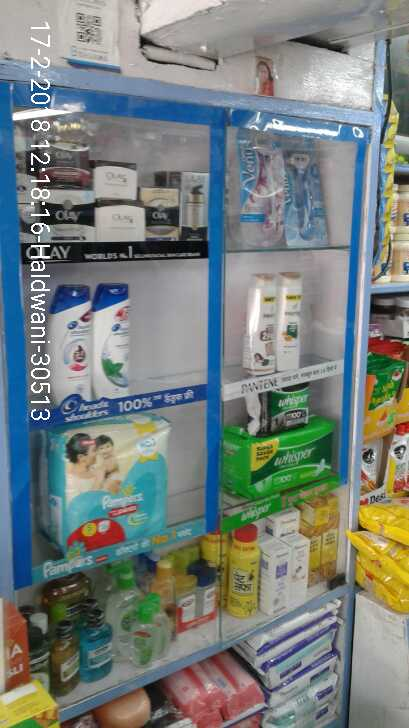venus: (241, 132, 286, 242), (286, 142, 323, 242)
